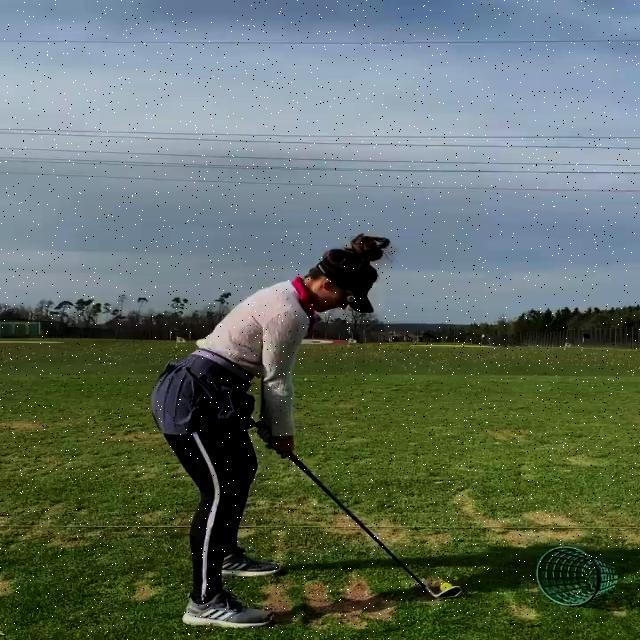golf ball: (440, 581, 452, 589)
golf club-handle: (252, 421, 463, 599)
golf club-head: (438, 589, 463, 601)
